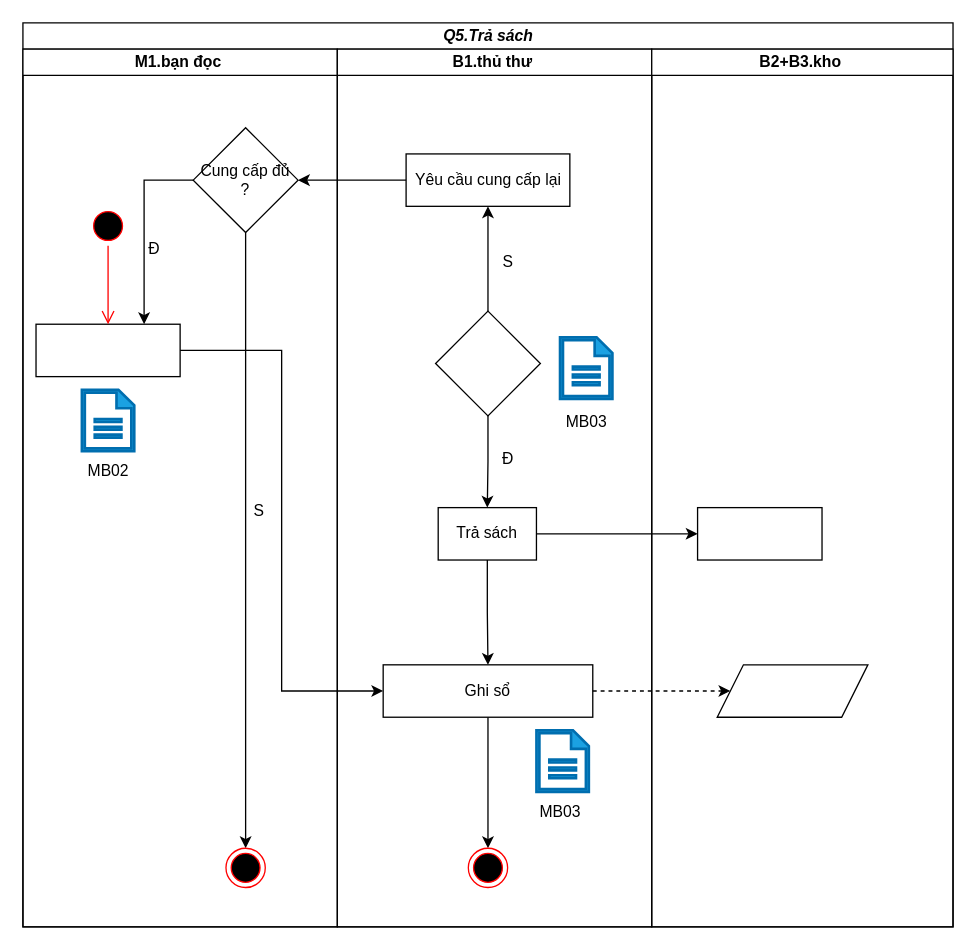
Image size: 976x950. Some labels were removed from this diagram. The shapes that lost their labels are listed below. From the top down, each one's centre as x and y in pixels, then its label:
point 107,350: Cung cấp thông tin
point 487,363: Khớp thông tin
point 759,533: Xếp sách
point 792,690: Kho lưu trữ
